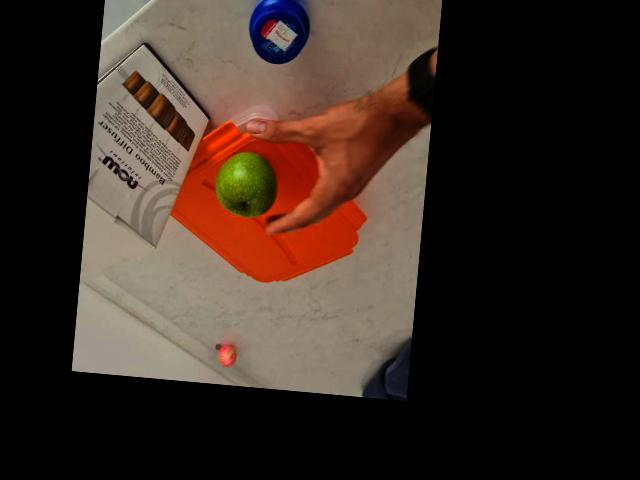apple: (215, 148, 271, 222)
